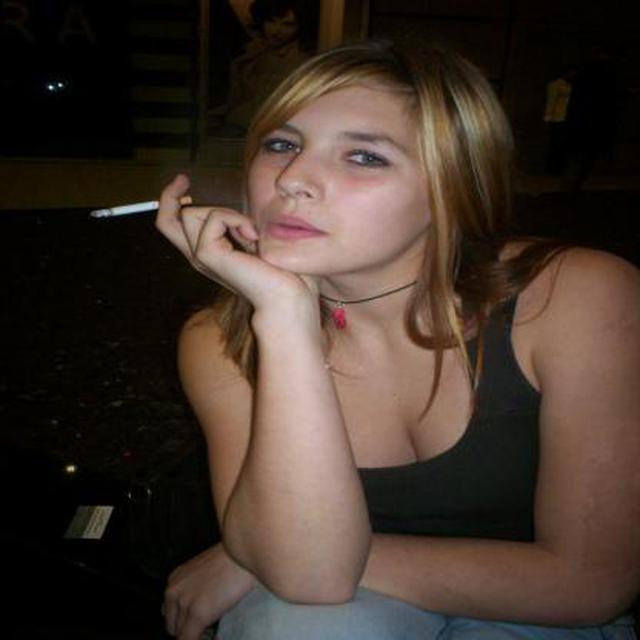smoking: (87, 196, 201, 224)
